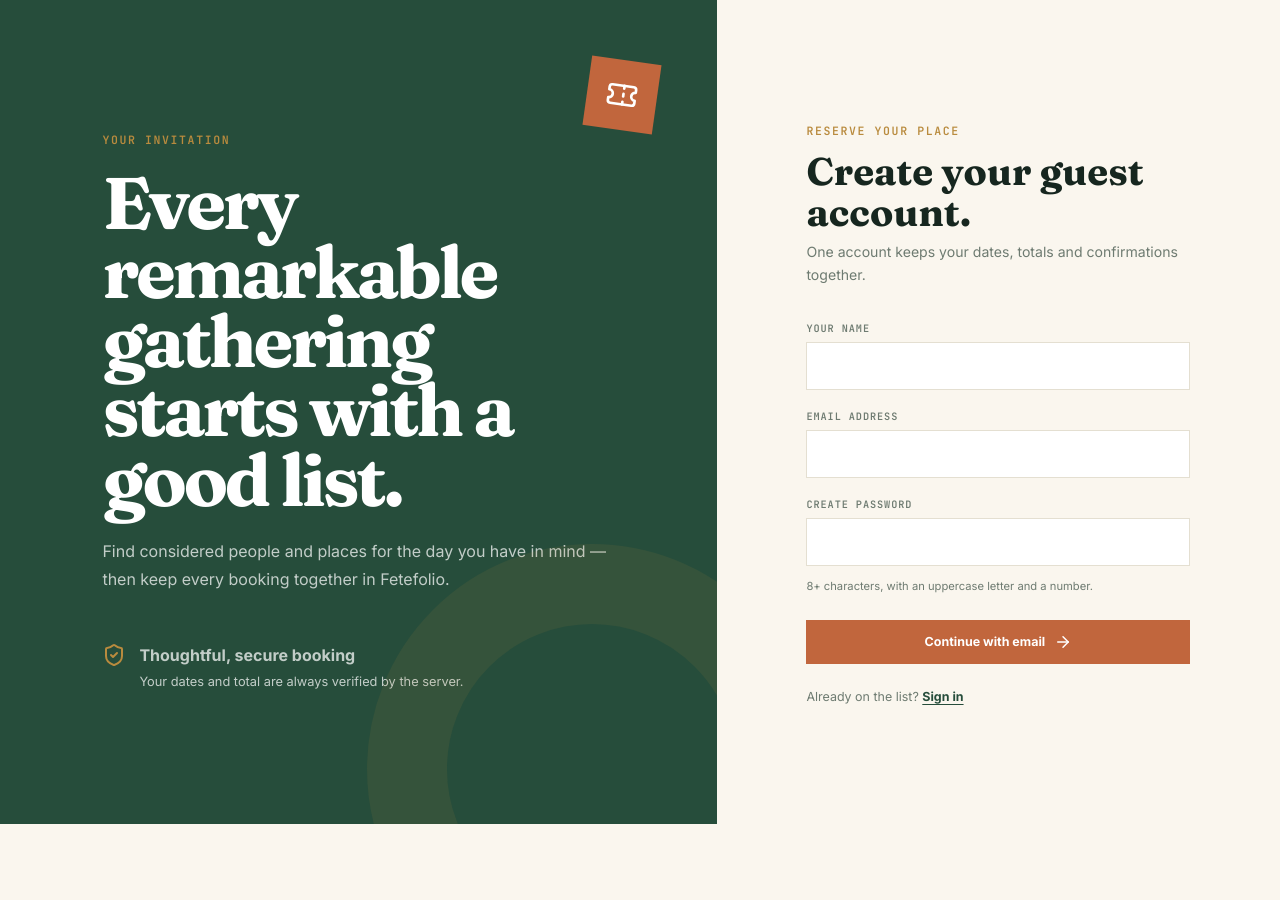
AuthPage OTP actions › shows a resend cooldown and lets the user return to change their email
Type "Guest User" into the field labelled "Your name" at (998, 366), box [806, 342, 1190, 390]
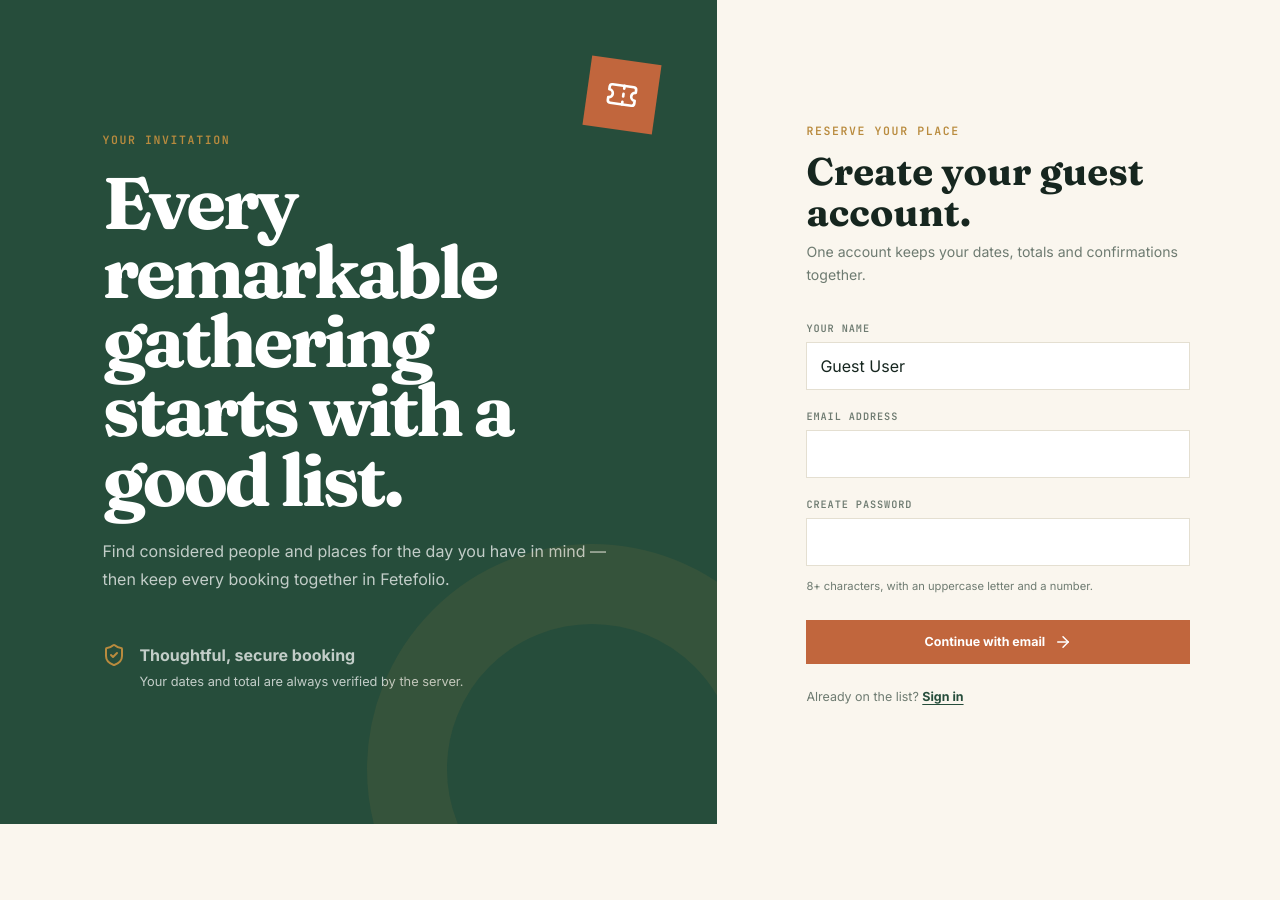
Type "guest@example.com" into the field labelled "Email address" at (998, 454), box [806, 430, 1190, 478]
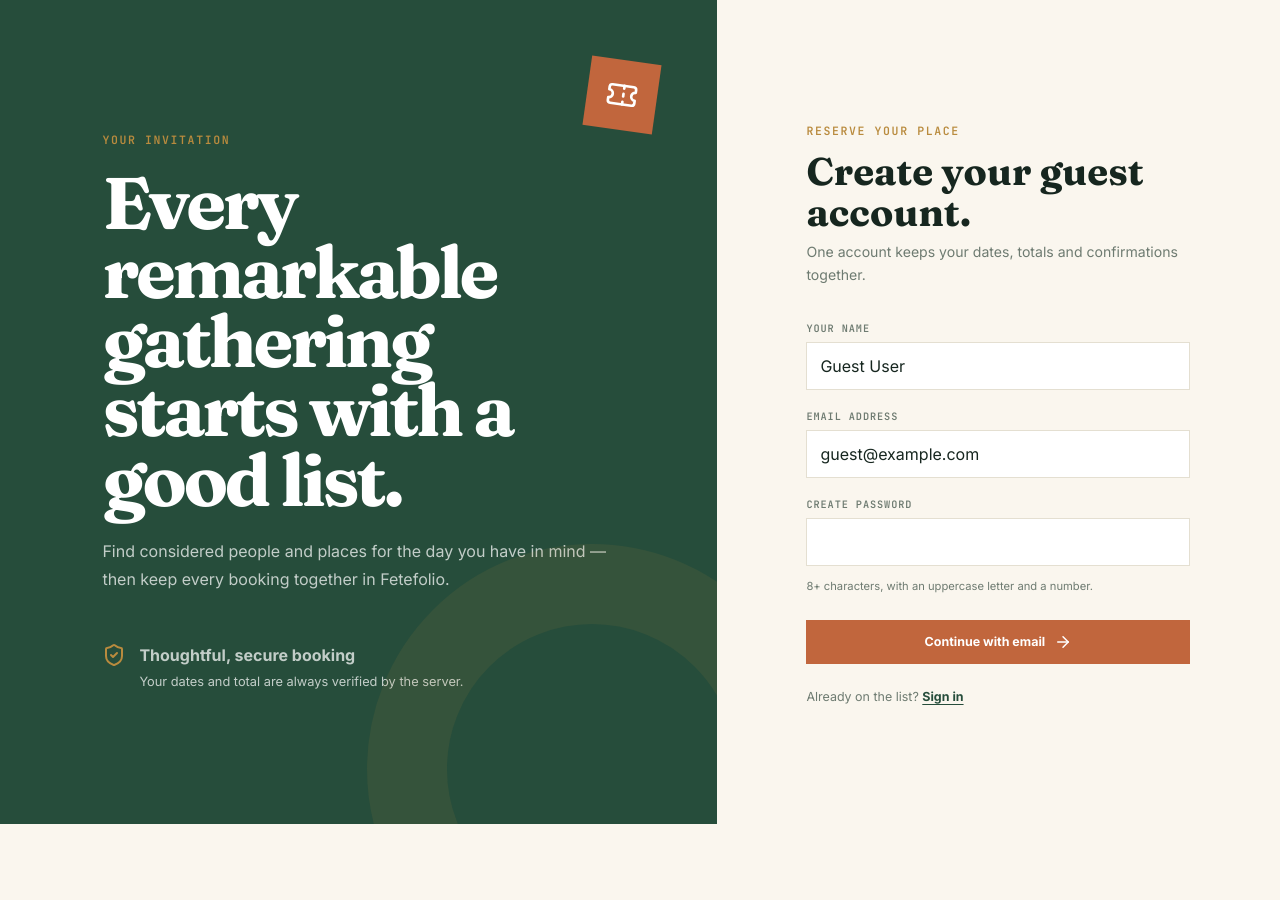
Type "Programme123" into the password field labelled "Create password" at (998, 542), box [806, 518, 1190, 566]
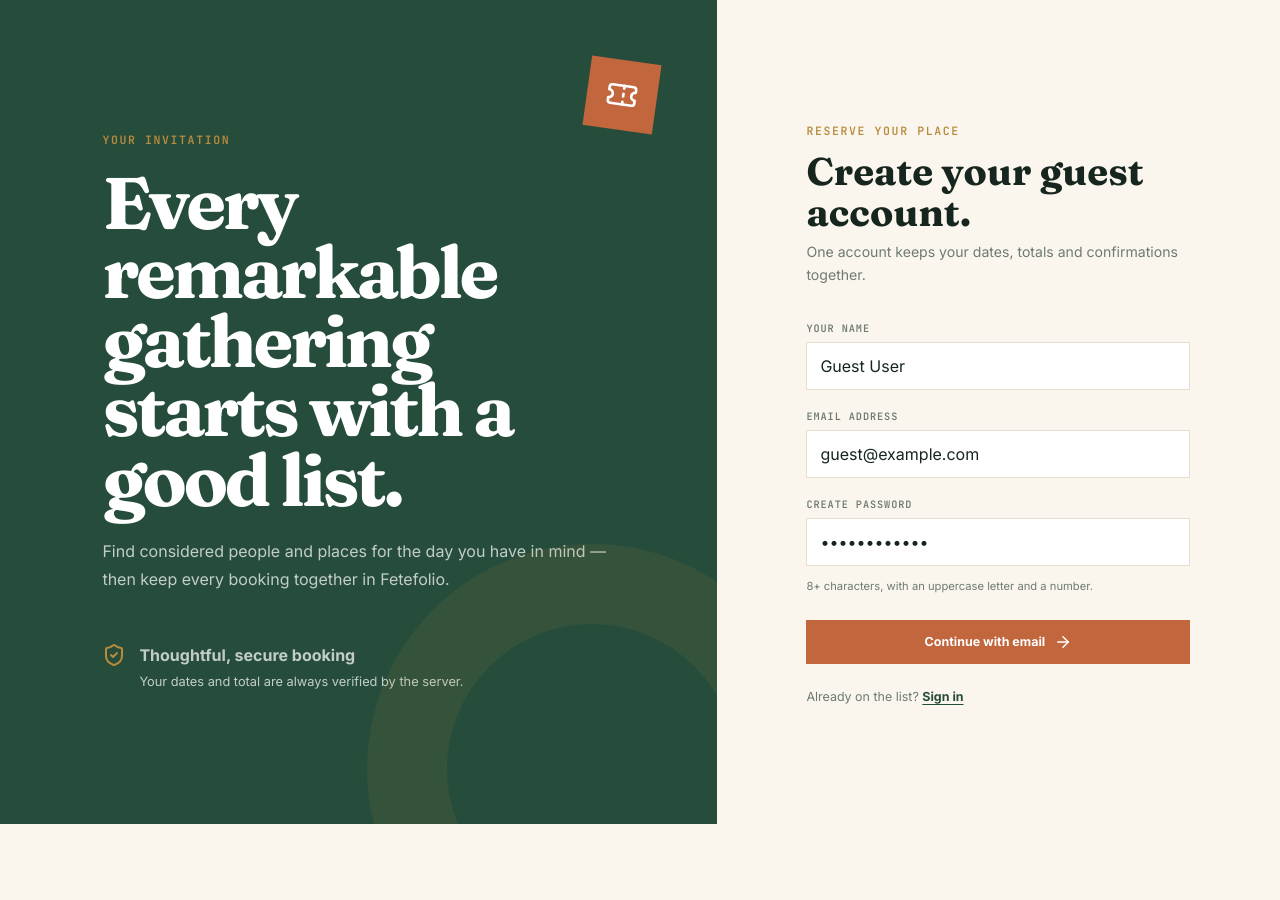
Click the button "Continue with email" at (998, 642), box [806, 620, 1190, 664]
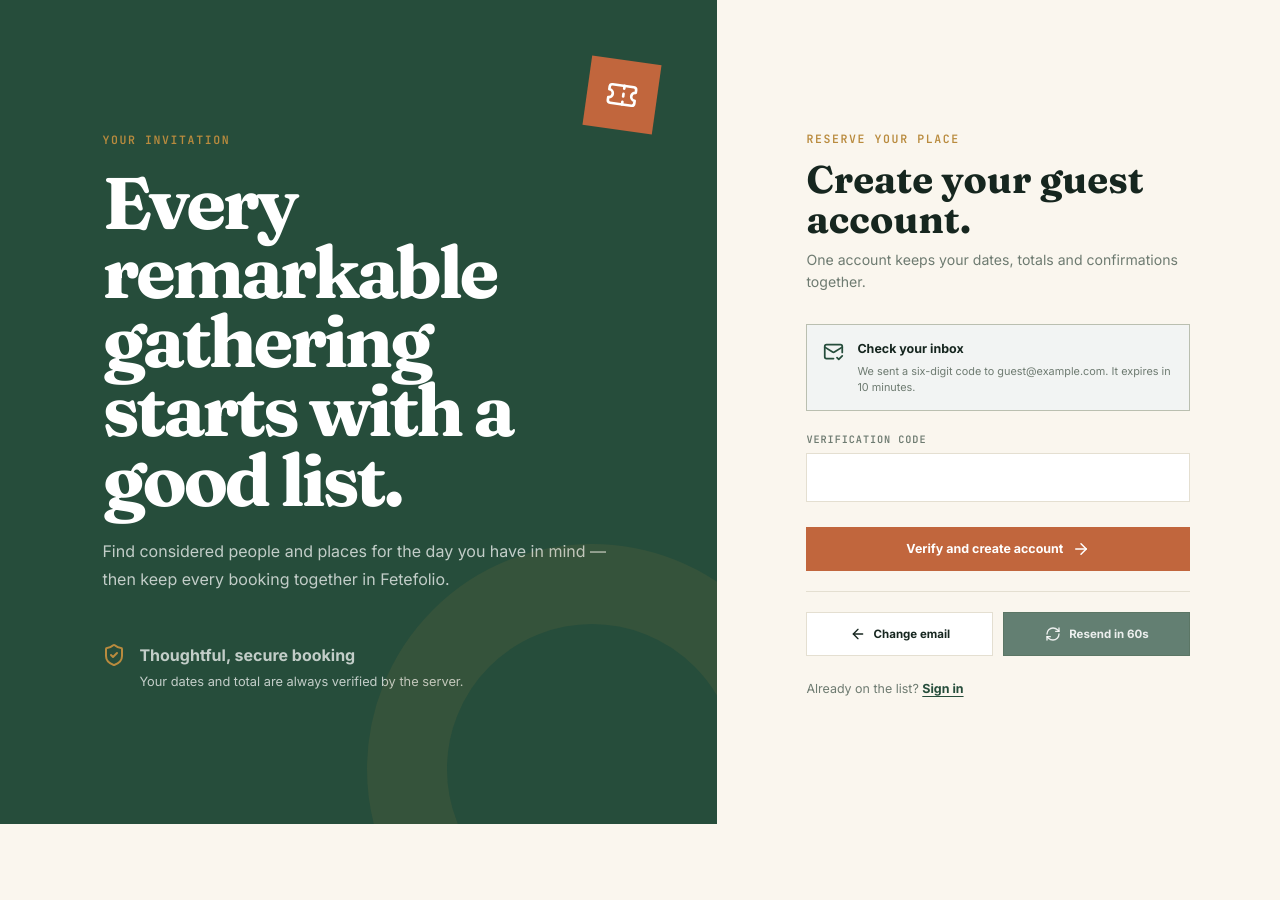
Result: the button "Resend in 60s" is disabled at [1003, 612, 1190, 656]
Click the button "Change email" at (900, 634), box [806, 612, 993, 656]
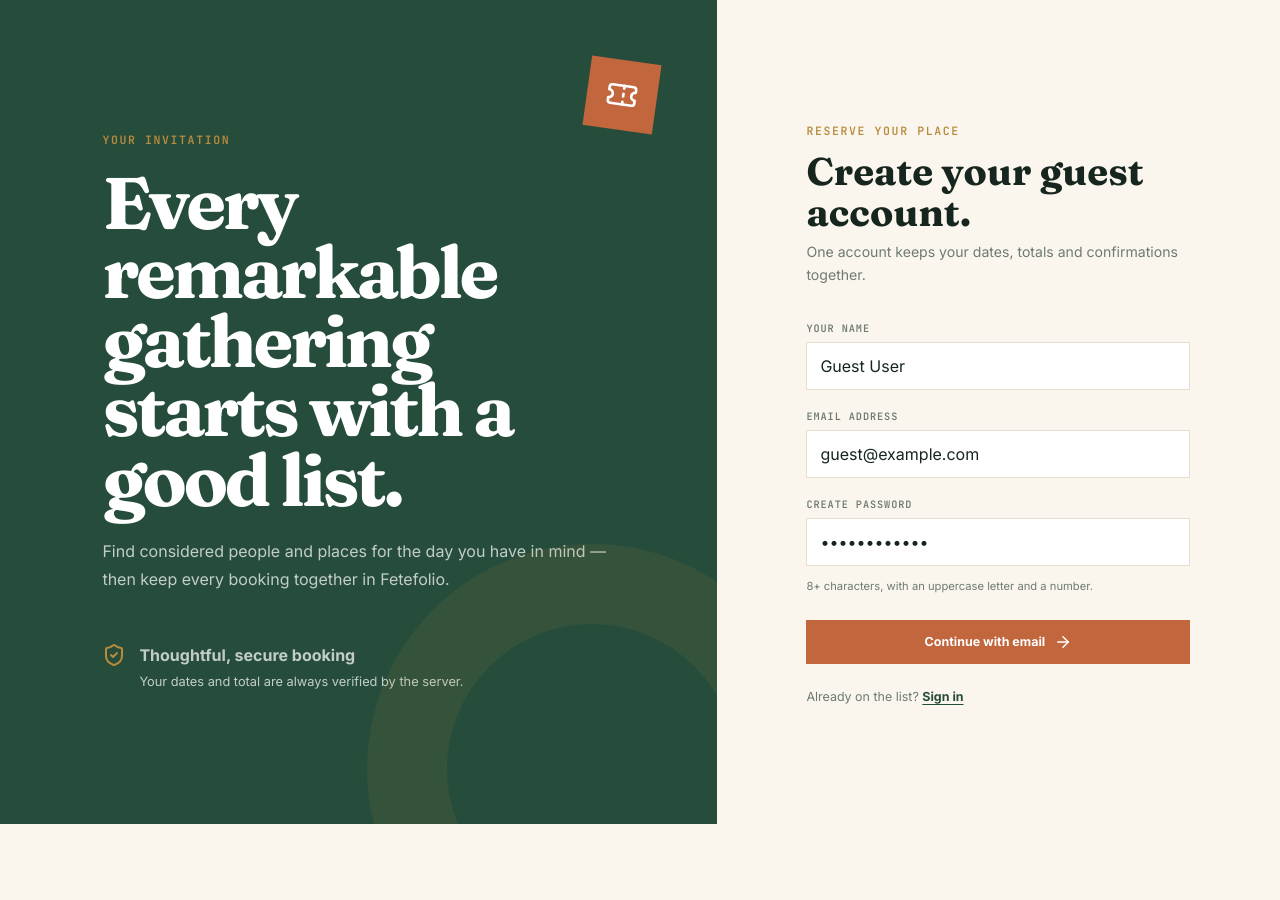
Result: the field labelled "Email address" is shown at [806, 430, 1190, 478]
